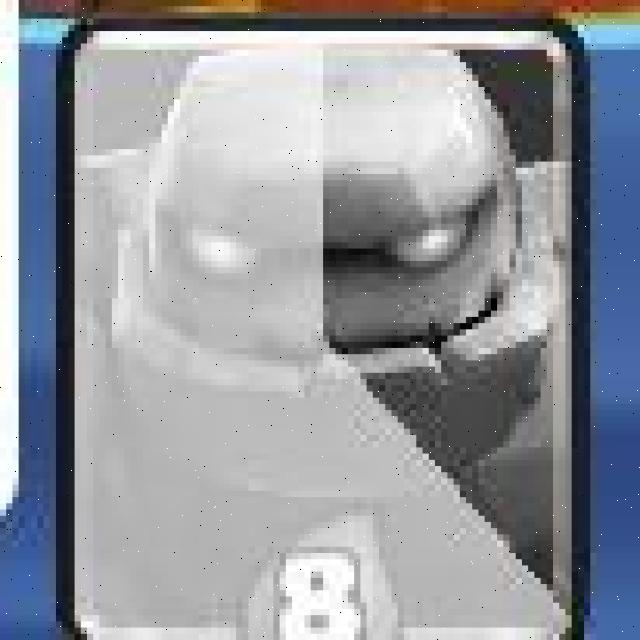Golem: (57, 18, 587, 640)
